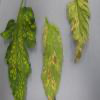Tomato mold leaf: (1, 4, 37, 99), (40, 21, 64, 99), (67, 0, 92, 61)
